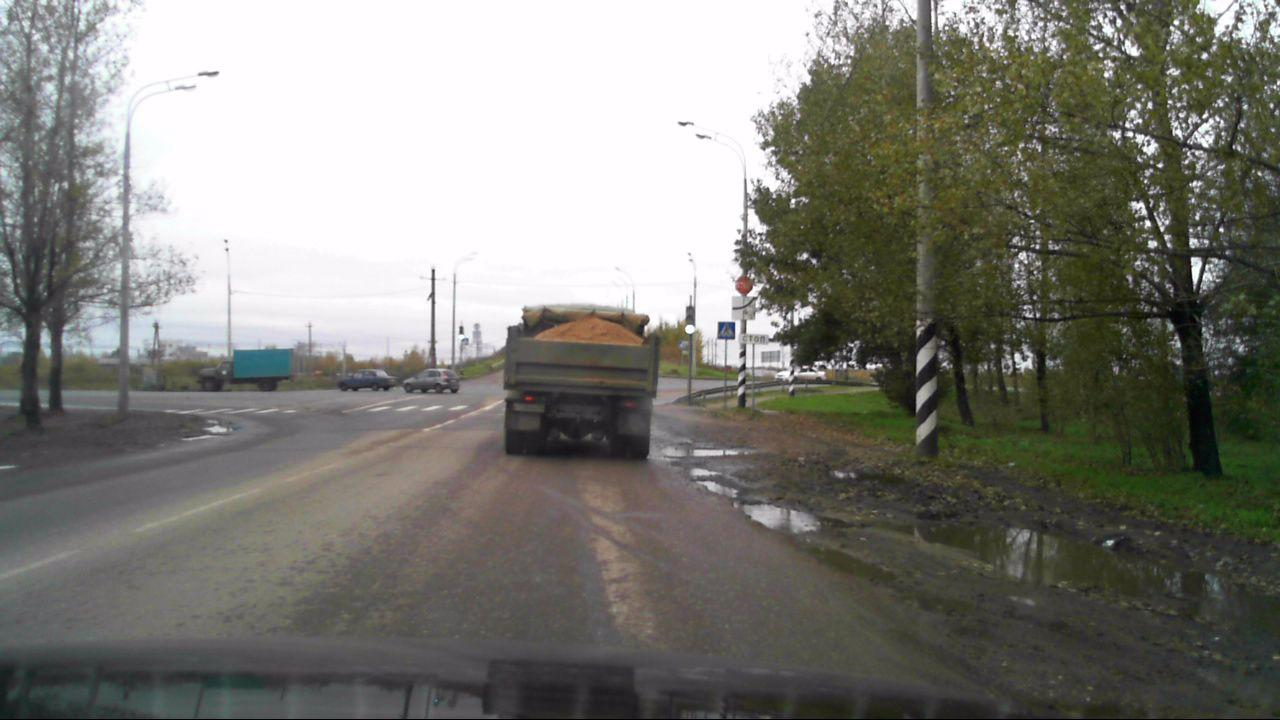obstructed_road_sign: (735, 276, 754, 296)
road_sign: (731, 296, 756, 320), (717, 321, 736, 340), (739, 334, 768, 345)
traffic light: (684, 306, 696, 336)
